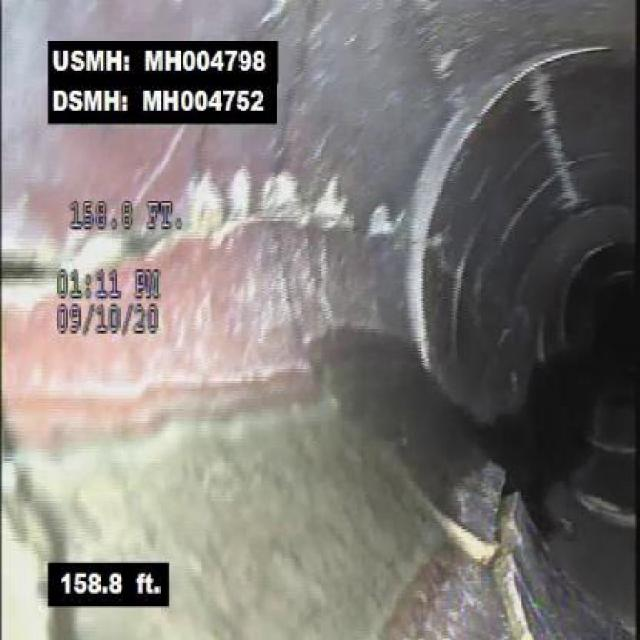Buckling: (431, 419, 558, 623)
Crack: (194, 162, 401, 302)
Joint offset: (379, 64, 483, 390)
